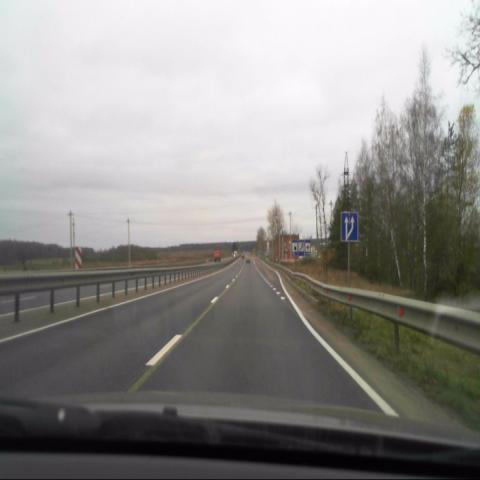5_15_3: (340, 211, 358, 241)
